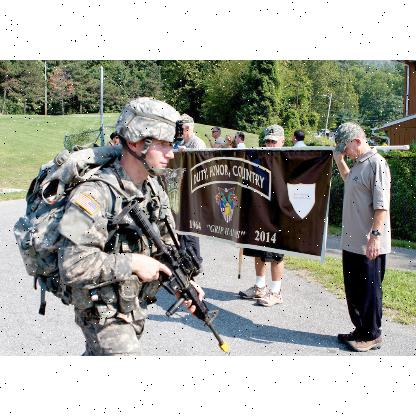gun: (108, 200, 230, 350)
